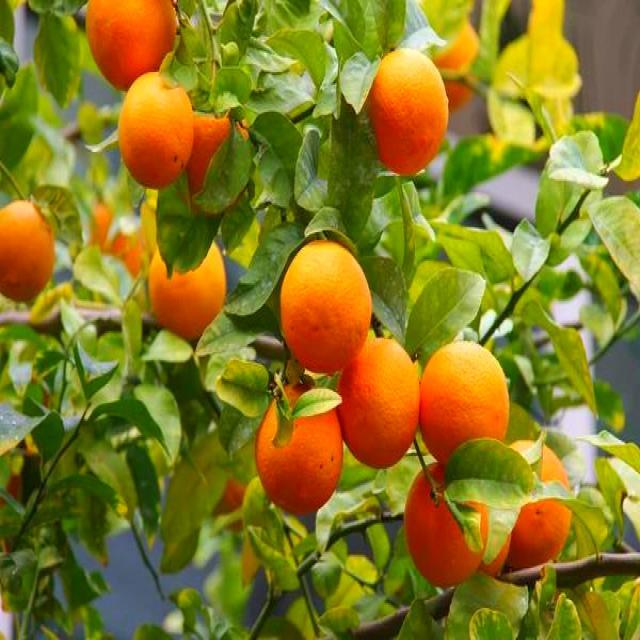Jeruk Sudah Matang: (280, 243, 372, 370), (422, 341, 508, 469), (337, 342, 420, 473), (258, 384, 341, 512), (369, 49, 449, 178), (406, 464, 486, 584), (499, 442, 574, 570), (120, 72, 194, 182), (148, 242, 226, 341), (86, 0, 180, 82), (184, 115, 248, 211), (0, 201, 52, 302), (480, 490, 512, 574), (213, 478, 251, 528)
